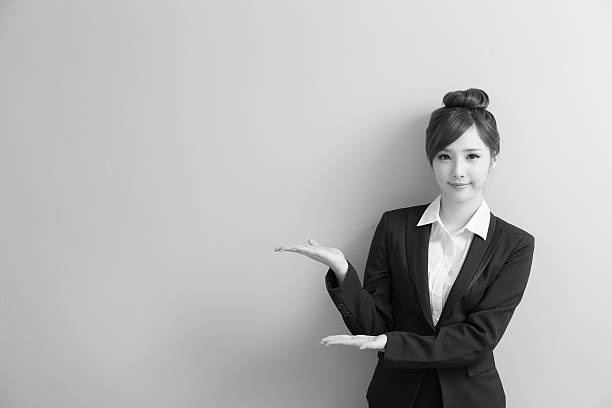pointing_gesture: (268, 238, 347, 273), (318, 331, 387, 357)
